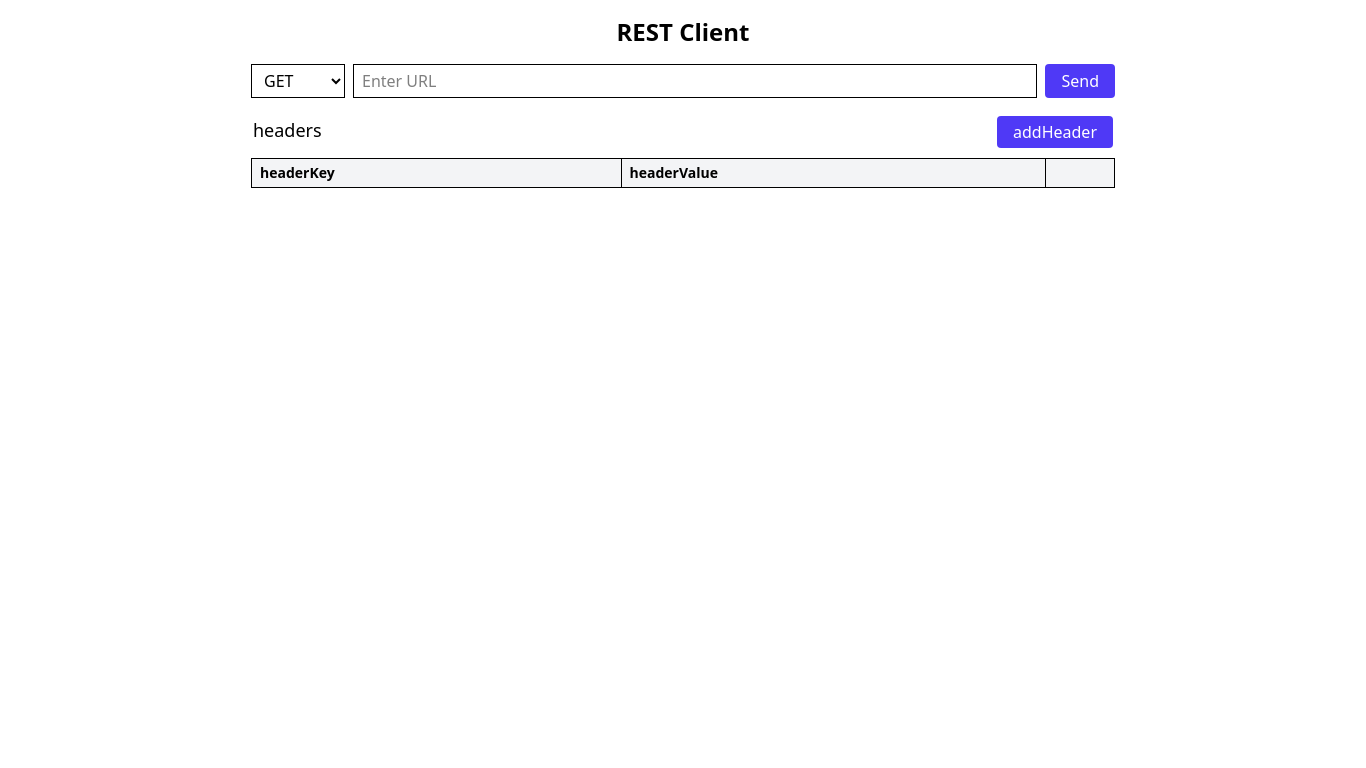
Scenario: RestClientForm › показывает ошибку при пустом URL
Click the button "Send".
click(1080, 81)  # box top-left (1046, 64), bottom-right (1115, 98)
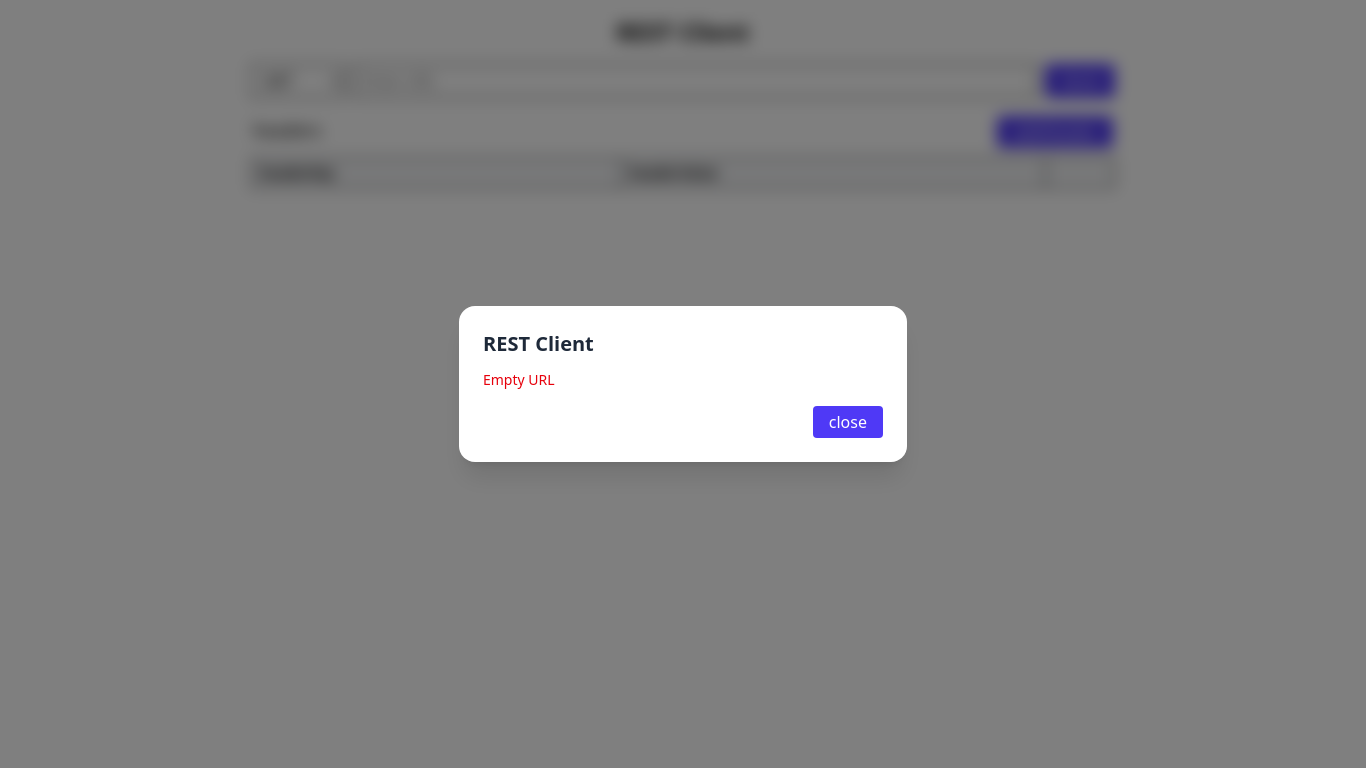
Expected: the text "Empty URL" is shown, top-left (483, 370), bottom-right (555, 389)
